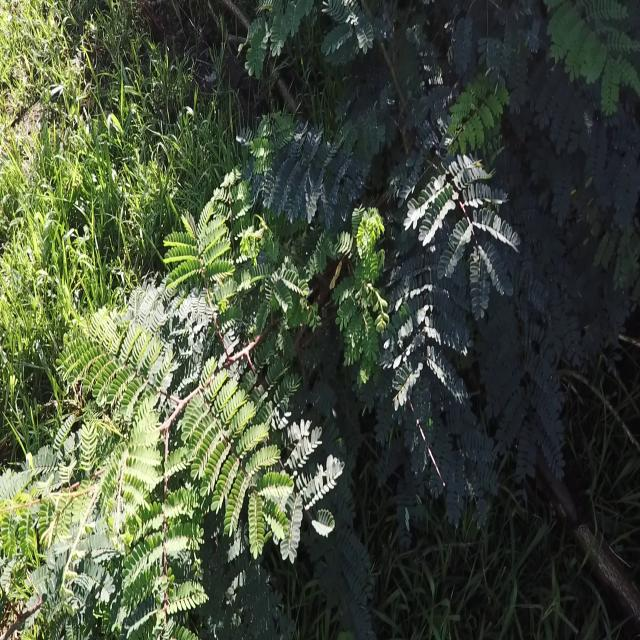Mysore-Thorn-Weed: (0, 99, 379, 640), (243, 0, 635, 520)
